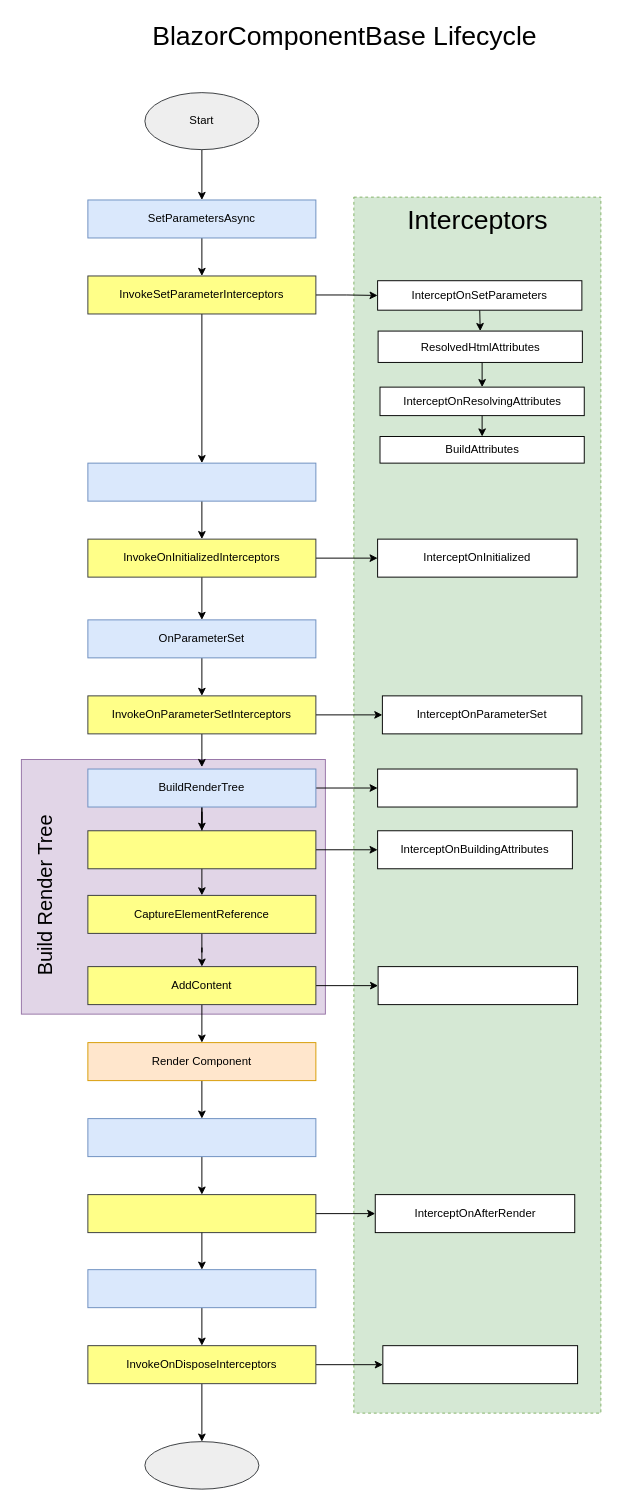
This 618x1506 diagram has some shape labels left out. Each missing label, with the centre of its shape:
"BuildComponentAttributes" belongs at pixel 201 849.
"Dispose" belongs at pixel 201 1288.
"End" belongs at pixel 201 1465.
"GetTagName" belongs at pixel 477 787.
"InterceptOnBuildContent" belongs at pixel 477 985.
"InterceptOnDispose" belongs at pixel 480 1364.
"InvokeOnAfterRenderInterceptors" belongs at pixel 201 1213.
"OnAfterRender" belongs at pixel 201 1137.
"OnInitialized" belongs at pixel 201 481.
